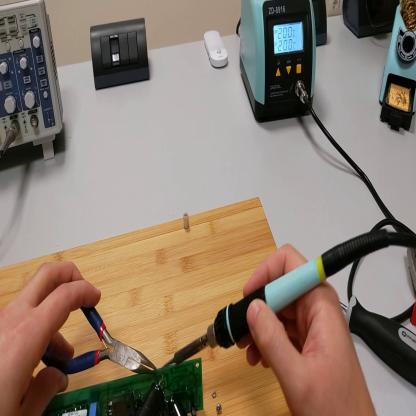hand: (240, 244, 379, 416), (2, 260, 104, 415)
high voltage board: (44, 356, 205, 416)
oscilloscope: (2, 3, 65, 173)
pliers: (41, 300, 157, 374), (407, 246, 416, 329)
screwdriver-: (336, 300, 416, 389)
socket: (341, 3, 397, 42), (312, 3, 331, 52)
welder base: (380, 5, 416, 135)
welder probe tip: (163, 230, 388, 378)
welder station: (240, 1, 316, 129)
working area: (3, 196, 298, 416)
